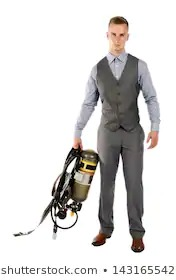F_dress pants: (96, 120, 146, 236)
F_shirt: (72, 49, 162, 141)
